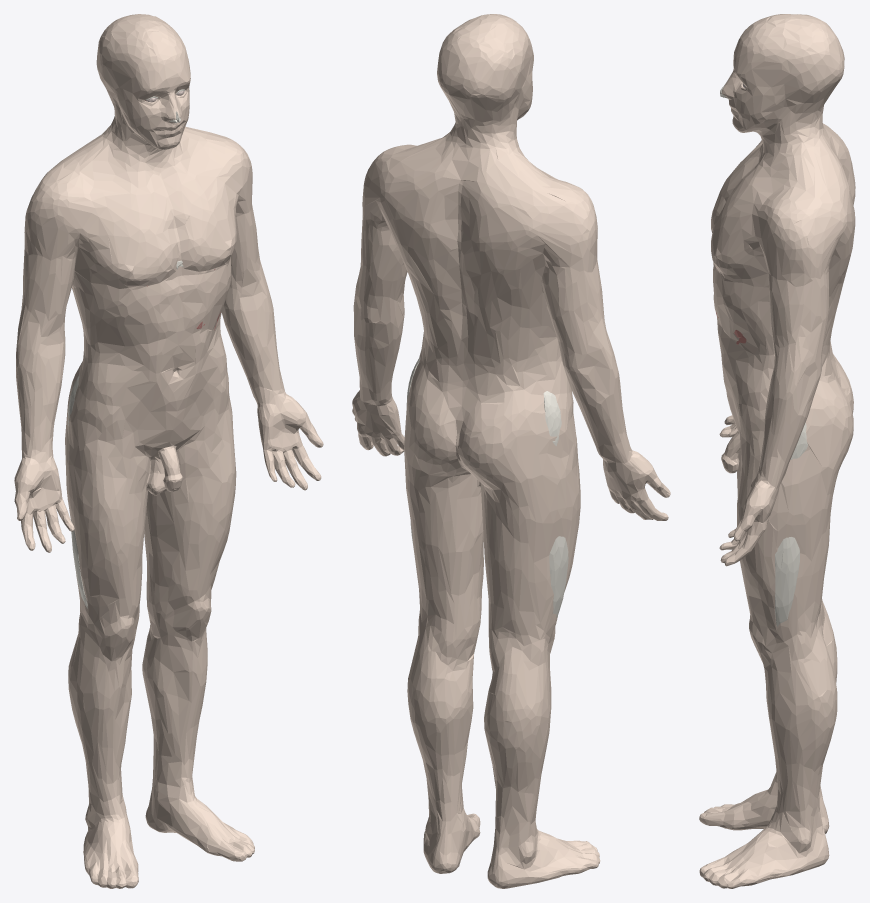
Rendered from anatomy.glb.
3 renders of one model, left to right at view 1: azimuth 30°, elevation 25°; view 2: azimuth 150°, elevation 25°; view 3: azimuth 270°, elevation 25°, orthographic. The views are drawn at different scales.
Visible parts, largest first — view 1: FJ2810, FJ1324; view 2: FJ2810, FJ1324; view 3: FJ2810, FJ1324.
Boxes of the visible parts, left/top/right/bottom form: FJ2810: left=14, top=14, right=323, bottom=888; FJ1324: left=68, top=89, right=184, bottom=608; FJ2810: left=352, top=14, right=670, bottom=888; FJ1324: left=406, top=357, right=568, bottom=617; FJ2810: left=699, top=14, right=855, bottom=888; FJ1324: left=720, top=83, right=807, bottom=626.
Size of the model in its own units: 0.6979 by 1.8 by 0.3054.
